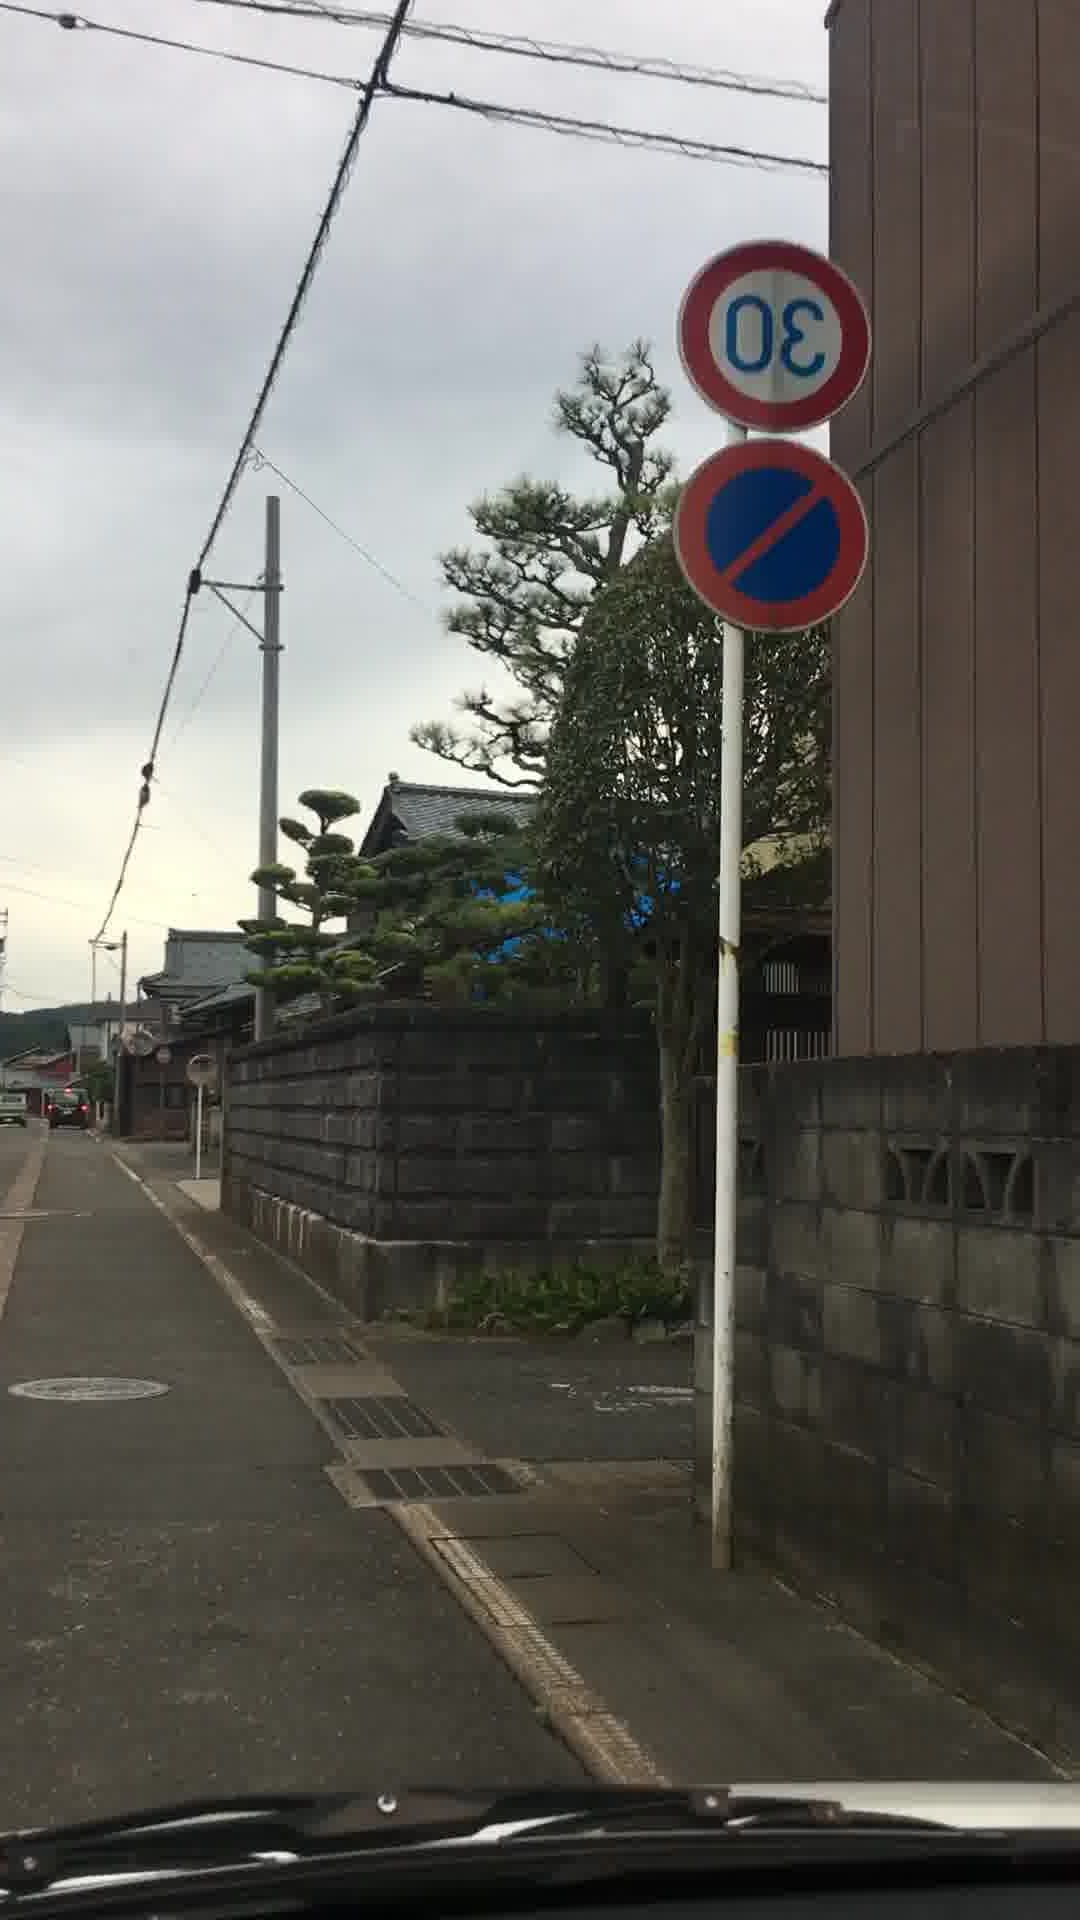Prohibition_sign: (670, 450, 880, 647)
Speed_sign: (666, 252, 876, 438)
